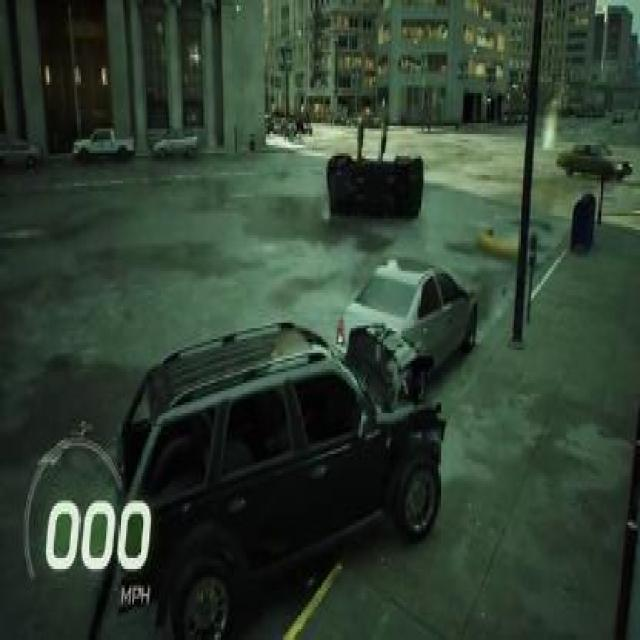accident: (323, 137, 426, 227)
